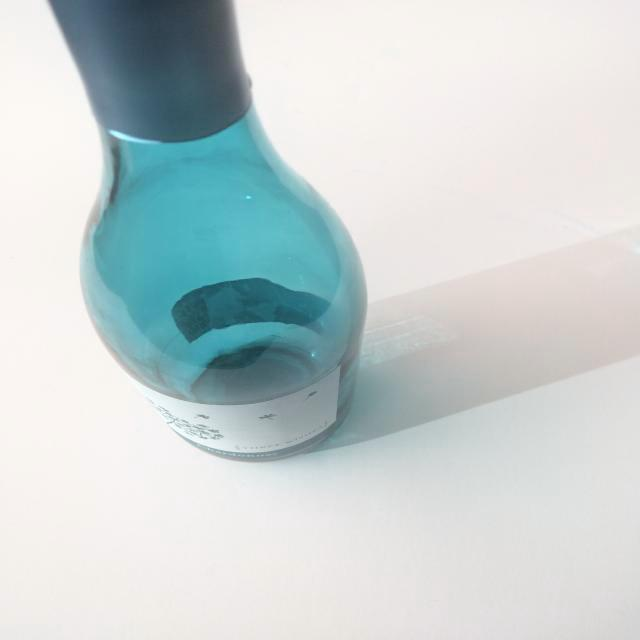glass: (42, 0, 374, 463)
